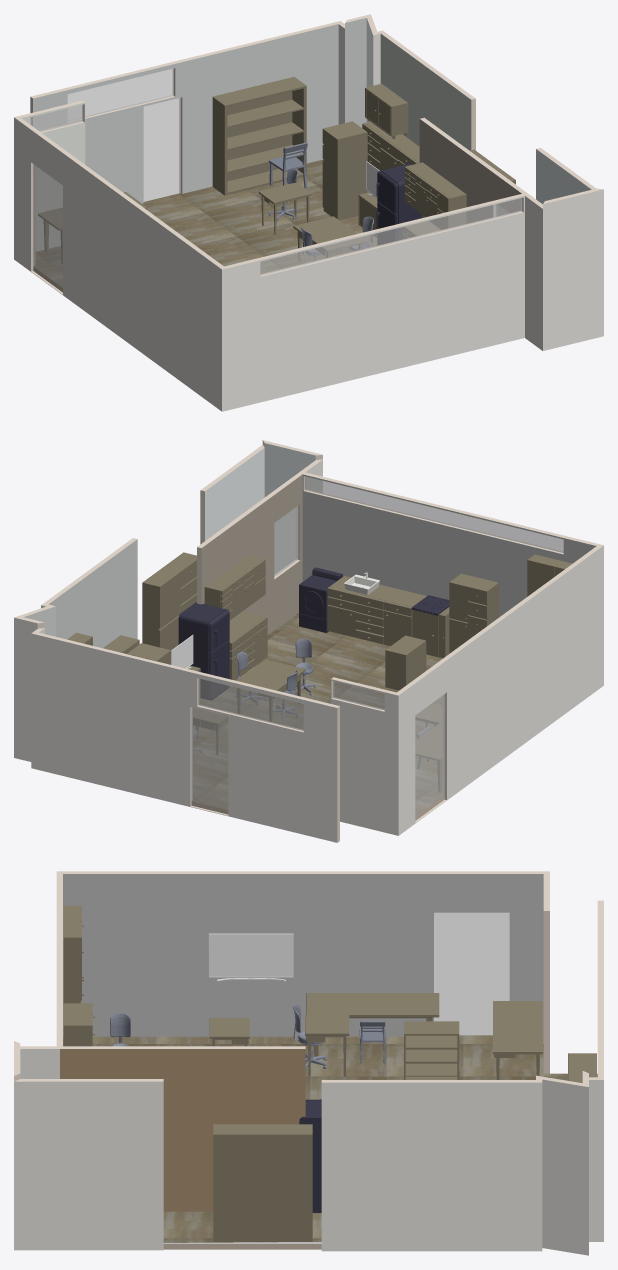
3 views of the same model, one above another, from view 1: azimuth 30°, elevation 25°; view 2: azimuth 150°, elevation 25°; view 3: azimuth 270°, elevation 25° (orthographic). The views are drawn at different scales.
Parts seen in each view (by area): view 1: wall_8_Material_52.002, wall_10_Material_56.002, wall_19_Material_43.002, floor_Other_0_Material.002, wall_0_Material_36.002, storage_shelf2_Material_33.002, wall_21_Material_45.002, wall_5_Material_46.002, storage_cabinet_tall21_Material_23.002, window_3_Material_62.002, window_7_Material_62.002, door_1_Material_62.002 (+26 smaller); view 2: wall_3_Material_42.002, wall_10_Material_56.002, wall_29_Material_53.002, floor_Other_0_Material.002, wall_2_Material_40.002, wall_5_Material_46.002, wall_21_Material_45.002, storage_cabinet_mid30_Material_19.002, storage_cabinet_tall23_Material_27.002, window_3_Material_62.002, window_7_Material_62.002, refrigerator0_Material_6.002 (+33 smaller); view 3: wall_33_Material_57.002, wall_4_Material_44.002, wall_11_Material_58.002, wall_23_Material_47.002, storage_cabinet_tall23_Material_27.002, floor_Other_0_Material.002, door_0_Material_62.002, door_2_Material_62.002, wall_7_Material_50.002, television0_Material_14.002, table_dining_rect0_Material_0.004, storage_shelf0_Material_4.002 (+20 smaller).
Boxes of the visible parts, <box> form: wall_8_Material_52.002: <box>222,196,524,411</box>; wall_10_Material_56.002: <box>14,117,221,411</box>; wall_19_Material_43.002: <box>33,24,338,203</box>; floor_Other_0_Material.002: <box>34,159,376,287</box>; wall_0_Material_36.002: <box>543,189,603,350</box>; storage_shelf2_Material_33.002: <box>212,76,306,195</box>; wall_21_Material_45.002: <box>380,34,471,150</box>; wall_5_Material_46.002: <box>419,119,521,229</box>; storage_cabinet_tall21_Material_23.002: <box>322,121,367,220</box>; window_3_Material_62.002: <box>260,198,521,274</box>; window_7_Material_62.002: <box>260,198,521,274</box>; door_1_Material_62.002: <box>144,98,180,201</box>; wall_3_Material_42.002: <box>31,633,337,842</box>; wall_10_Material_56.002: <box>398,545,603,835</box>; wall_29_Material_53.002: <box>302,474,596,617</box>; floor_Other_0_Material.002: <box>192,613,444,816</box>; wall_2_Material_40.002: <box>331,679,398,835</box>; wall_5_Material_46.002: <box>201,474,302,634</box>; wall_21_Material_45.002: <box>48,539,137,648</box>; storage_cabinet_mid30_Material_19.002: <box>327,576,426,646</box>; storage_cabinet_tall23_Material_27.002: <box>142,552,196,650</box>; window_3_Material_62.002: <box>305,476,563,552</box>; window_7_Material_62.002: <box>305,477,563,552</box>; refrigerator0_Material_6.002: <box>178,602,229,700</box>; wall_33_Material_57.002: <box>63,874,543,1036</box>; wall_4_Material_44.002: <box>321,1082,542,1251</box>; wall_11_Material_58.002: <box>14,1081,163,1250</box>; wall_23_Material_47.002: <box>60,1049,305,1211</box>; storage_cabinet_tall23_Material_27.002: <box>213,1124,312,1241</box>; floor_Other_0_Material.002: <box>63,1035,597,1242</box>; door_0_Material_62.002: <box>434,913,509,1034</box>; door_2_Material_62.002: <box>434,913,509,1034</box>; wall_7_Material_50.002: <box>542,1079,588,1255</box>; television0_Material_14.002: <box>208,933,293,981</box>; table_dining_rect0_Material_0.004: <box>306,993,439,1056</box>; storage_shelf0_Material_4.002: <box>404,1021,459,1079</box>.
Size of the model in its own units: 8 by 3.01 by 9.25.
